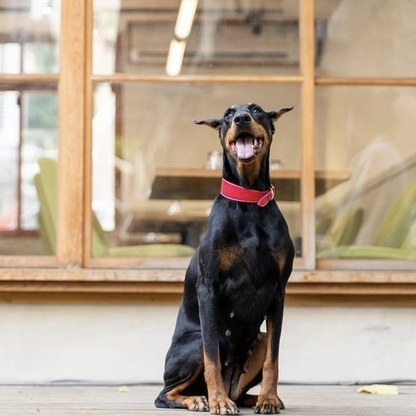doberman: (157, 101, 296, 414)
